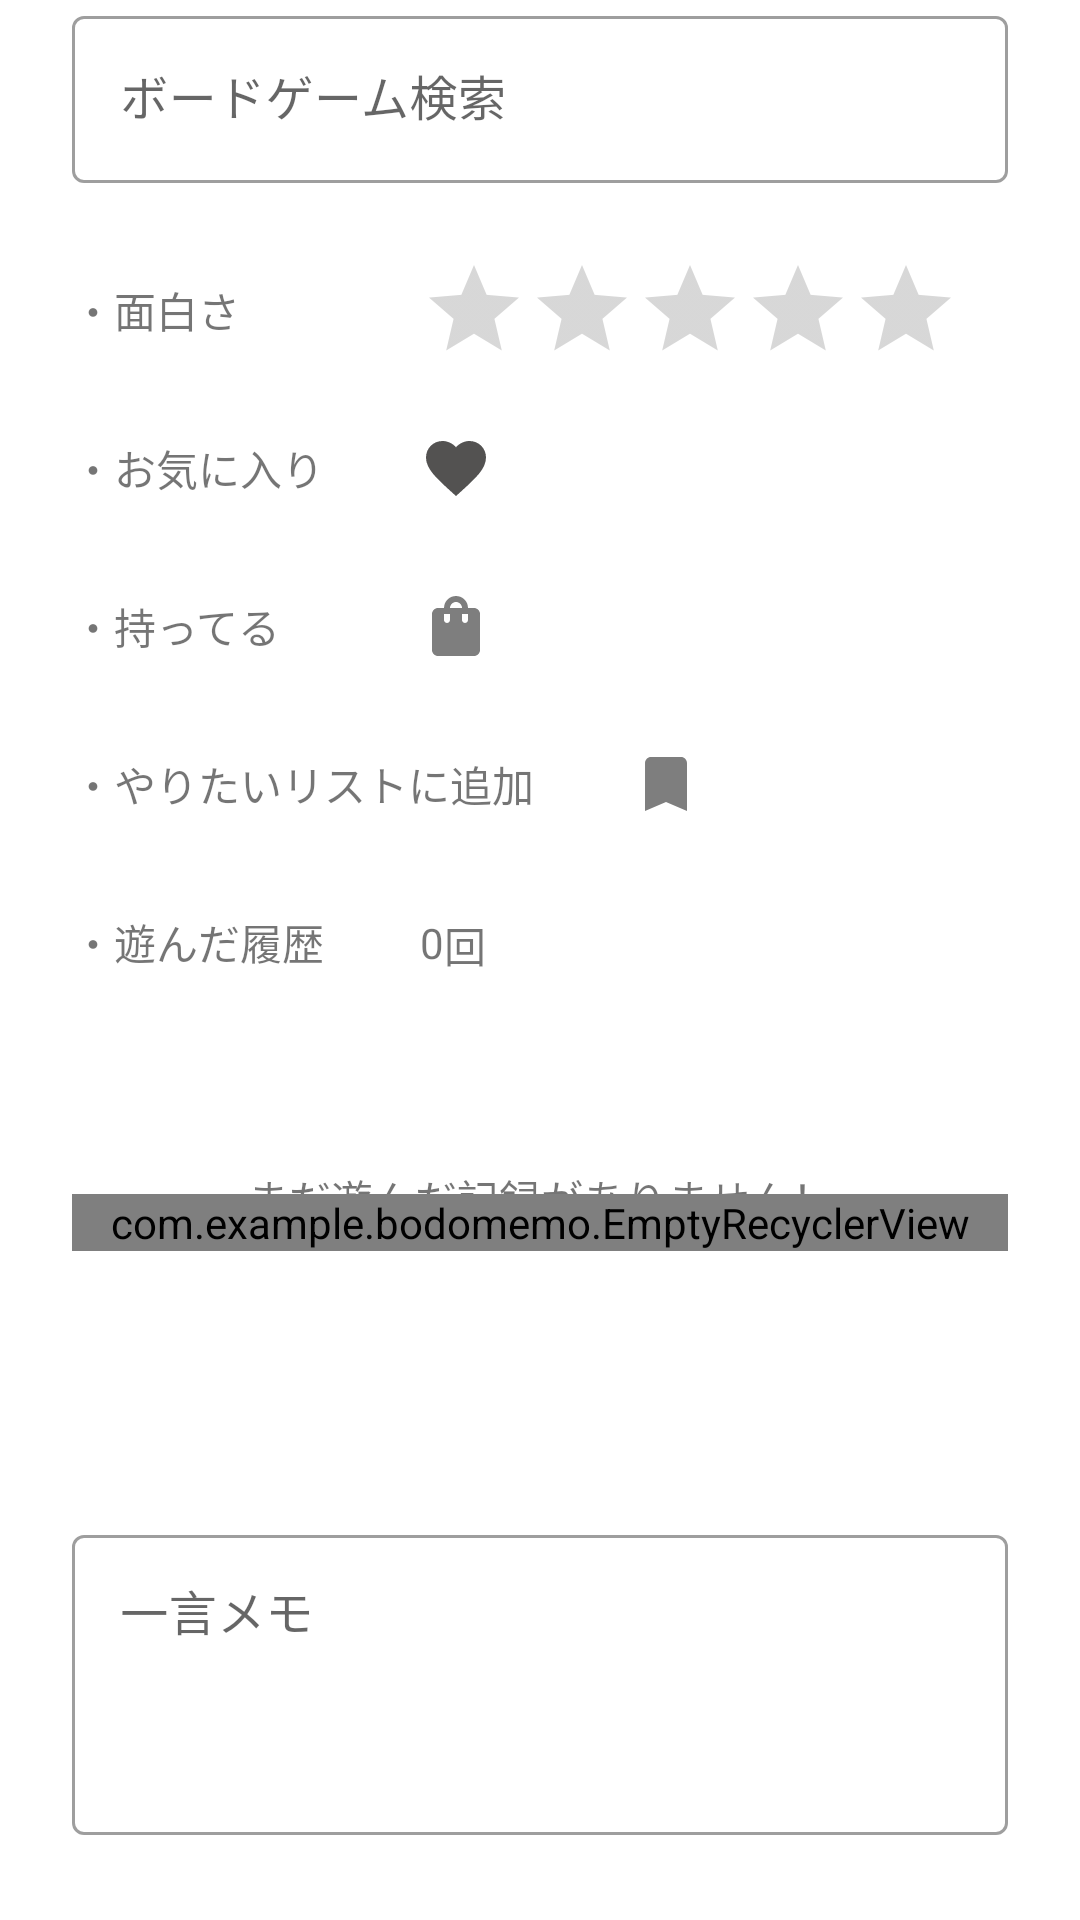

Icons on this 1080px x 1920px Android screen, each with the point to tap as [x,y]:
bookmark: [666,784]
checkbox bag layout: [456,626]
checkbox favorite layout: [456,468]
